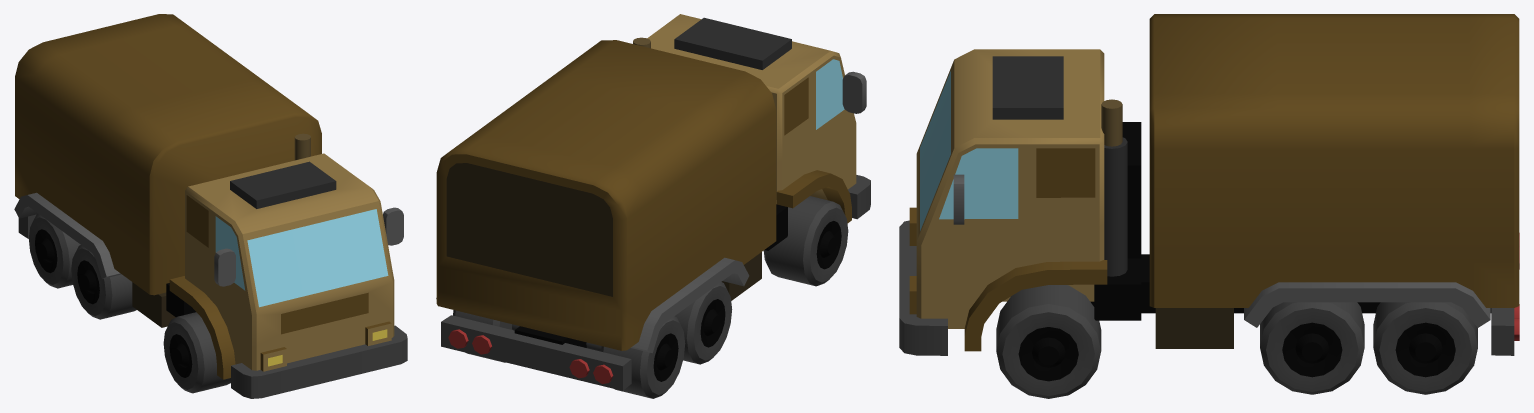
Rendered from Truck 3.fbx.
3 views of the same model, side by side, from view 1: azimuth 30°, elevation 25°; view 2: azimuth 150°, elevation 25°; view 3: azimuth 270°, elevation 25° (orthographic). The views are drawn at different scales.
Visible parts, largest first — view 1: Cube.476, Cube.475, Cube.479, Cylinder.557, Cylinder.559, Cylinder.565, Plane.081, Cube.478, Cube.480, Cube.482, Cube.481, Cylinder.558; view 2: Cube.476, Cube.475, Cube.483, Cylinder.557, Cylinder.565, Cylinder.559, Plane.081, Cube.478, Cylinder.560, Cube.480, Cube.479, Cube.482 (+2 smaller); view 3: Cube.476, Cube.475, Cylinder.557, Cylinder.559, Cylinder.565, Plane.081, Cube.481, Cylinder.558, Cube.478, Cube.482, Cube.479, Cube.483 (+2 smaller).
Part boxes in pixels (bbox=[...]): Cube.476: bbox=[15, 14, 321, 295]; Cube.475: bbox=[185, 153, 394, 371]; Cube.479: bbox=[231, 325, 407, 398]; Cylinder.557: bbox=[163, 312, 230, 393]; Cylinder.559: bbox=[71, 245, 136, 319]; Cylinder.565: bbox=[28, 214, 80, 288]; Plane.081: bbox=[14, 192, 121, 278]; Cube.478: bbox=[169, 276, 235, 379]; Cube.480: bbox=[214, 207, 403, 286]; Cube.482: bbox=[132, 282, 175, 327]; Cube.481: bbox=[166, 283, 195, 317]; Cylinder.558: bbox=[294, 133, 310, 160]; Cube.476: bbox=[436, 40, 776, 350]; Cube.475: bbox=[647, 14, 856, 203]; Cube.483: bbox=[441, 315, 631, 390]; Cylinder.557: bbox=[763, 196, 848, 286]; Cylinder.565: bbox=[453, 310, 685, 398]; Cylinder.559: bbox=[675, 282, 732, 364]; Plane.081: bbox=[436, 257, 749, 353]; Cube.478: bbox=[776, 170, 851, 223]; Cylinder.560: bbox=[448, 329, 613, 383]; Cube.480: bbox=[842, 71, 866, 113]; Cube.479: bbox=[848, 175, 870, 219]; Cube.482: bbox=[721, 252, 761, 300]; Cube.476: bbox=[1149, 14, 1519, 307]; Cube.475: bbox=[909, 49, 1104, 328]; Cylinder.557: bbox=[996, 285, 1101, 398]; Cylinder.559: bbox=[1260, 302, 1364, 394]; Cylinder.565: bbox=[1373, 302, 1477, 394]; Plane.081: bbox=[1244, 282, 1490, 327]; Cube.481: bbox=[1094, 122, 1141, 320]; Cylinder.558: bbox=[1101, 99, 1127, 276]; Cube.478: bbox=[964, 260, 1107, 351]; Cube.482: bbox=[1155, 308, 1233, 348]; Cube.479: bbox=[899, 220, 947, 355]; Cube.483: bbox=[1491, 308, 1514, 355].
Bounding box in the file's own units: 687 × 719 × 1422.
